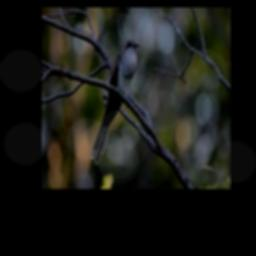Cuckoo: (90, 38, 139, 165)
